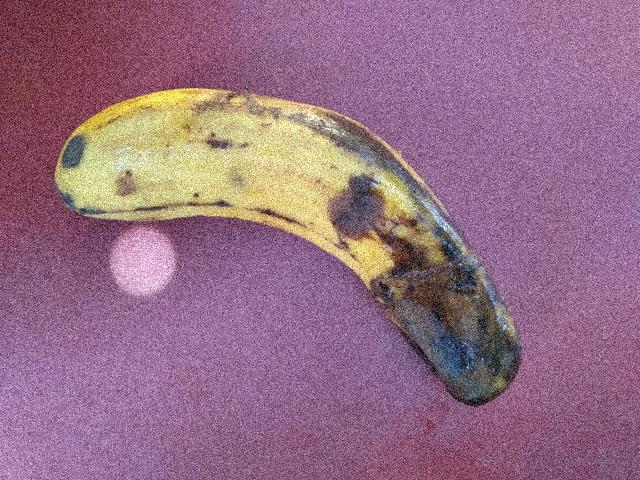rotten: (41, 67, 545, 430)
